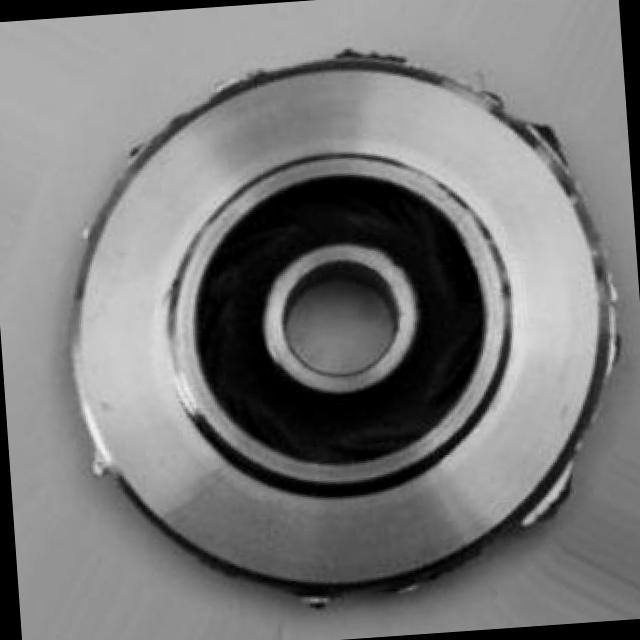Defect: (516, 103, 578, 169)
